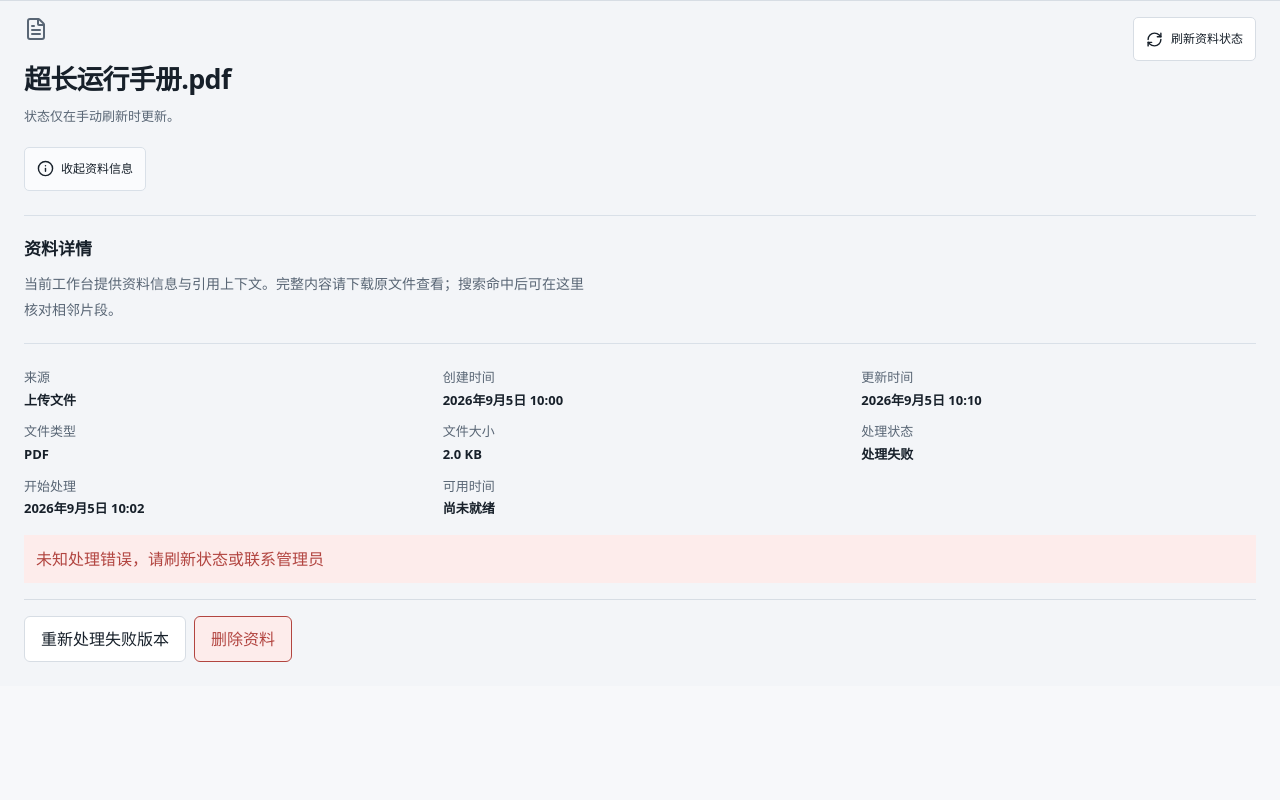
Test: a writer can explicitly retry the exact server-declared retryable failed version
Click the button "重新处理失败版本". click: (105, 639)
box: [24,616,186,662]
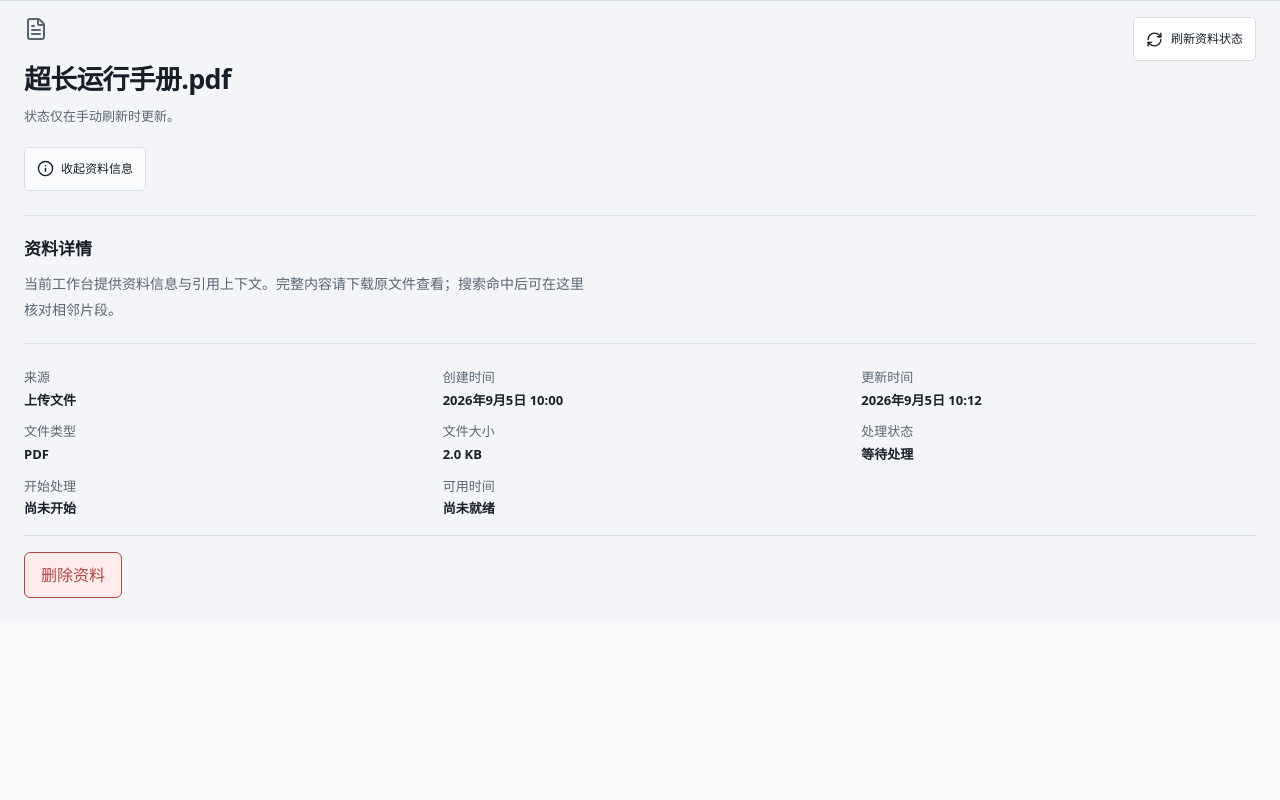
Expected: the text "等待处理" is shown, [861,445,913,463]
Expected: the button "重新处理失败版本" is gone
